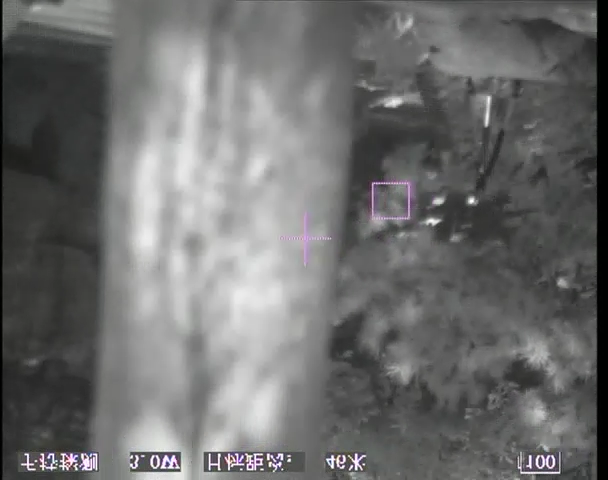my: (465, 195, 478, 206)
